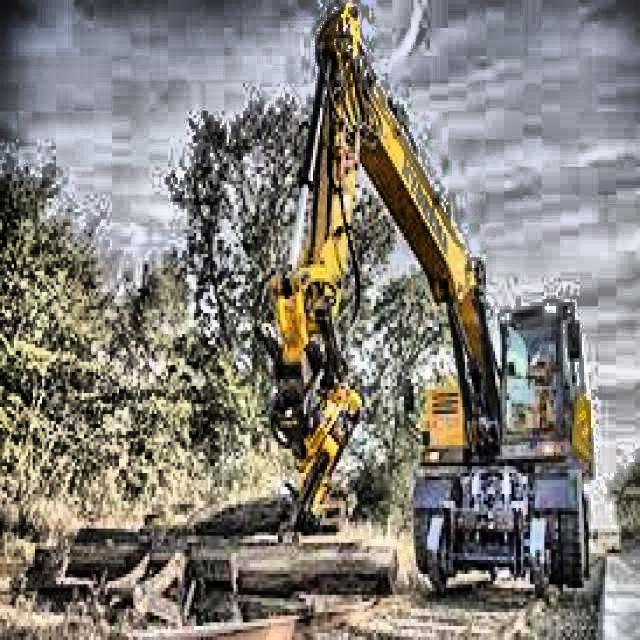bull_dozer/loader/grader: (252, 0, 594, 617)
person: (530, 340, 564, 423)
